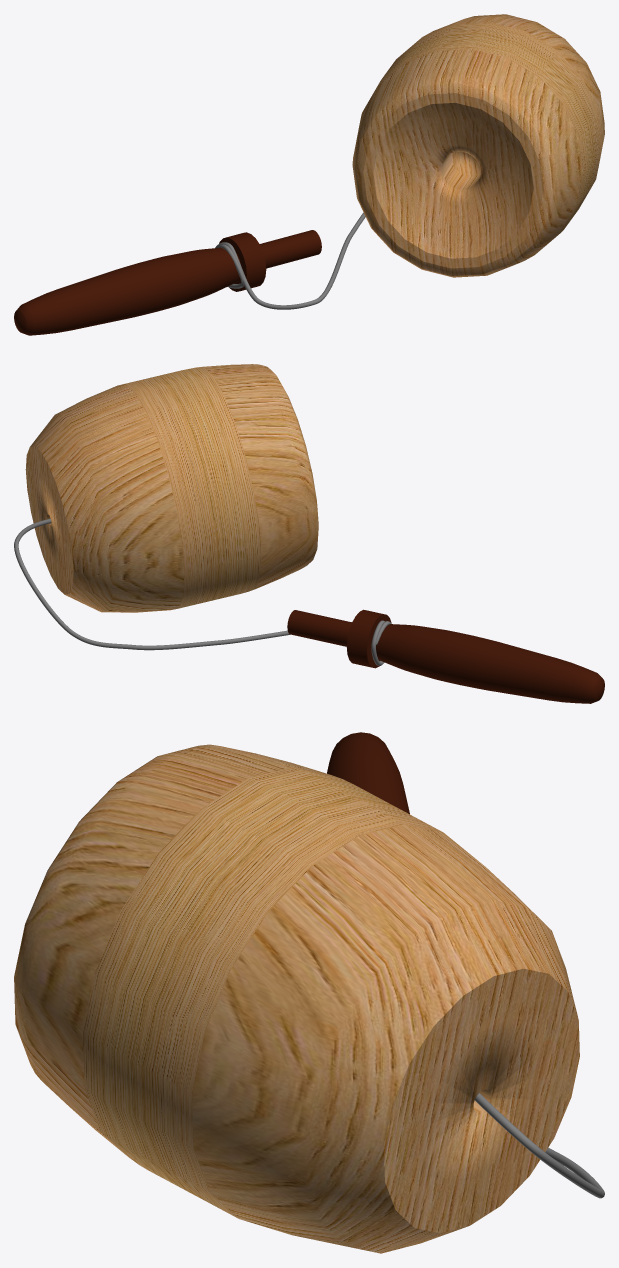
File: Balero.fbx
The picture shows the model from 3 angles, top to bottom: view 1: azimuth 30°, elevation 25°; view 2: azimuth 150°, elevation 25°; view 3: azimuth 270°, elevation 25°; orthographic projection. The views are drawn at different scales.
Parts seen in each view (by area): view 1: Balero; view 2: Balero; view 3: Balero.
Part boxes in pixels (box(x1,y1,x2,y2)): Balero: box(14, 14, 604, 335); Balero: box(14, 364, 604, 703); Balero: box(14, 732, 604, 1253).
Bounding box in the file's own units: 49.16 × 17.99 × 23.65.
